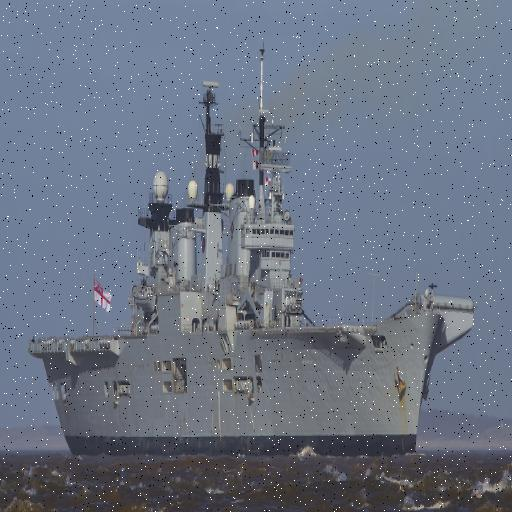Portanaves: (24, 40, 478, 463)
